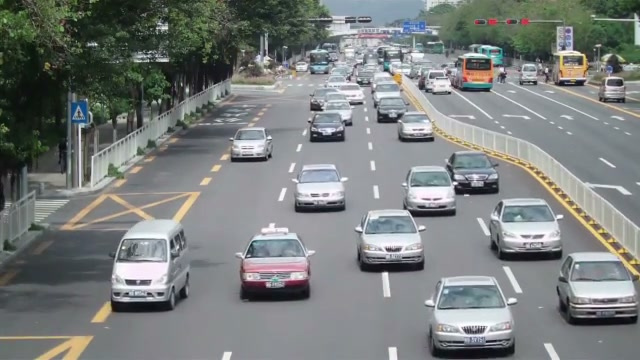bus: (455, 53, 494, 91)
car: (109, 218, 191, 312), (425, 275, 517, 357), (555, 251, 640, 325), (235, 231, 316, 301), (488, 197, 564, 260), (353, 208, 427, 272), (400, 165, 457, 216), (292, 163, 347, 212), (445, 151, 500, 194), (230, 127, 273, 162), (396, 111, 435, 142), (309, 112, 345, 142), (376, 96, 408, 123), (598, 77, 626, 103)
truck: (552, 50, 589, 86), (519, 63, 537, 85)
